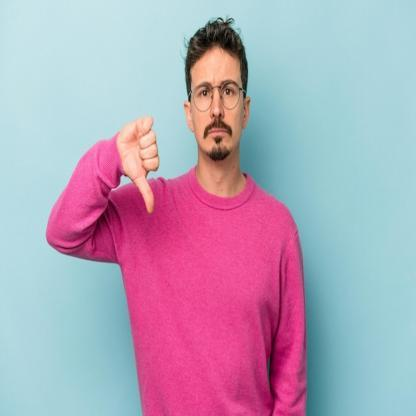thumb_down: (115, 110, 164, 218)
